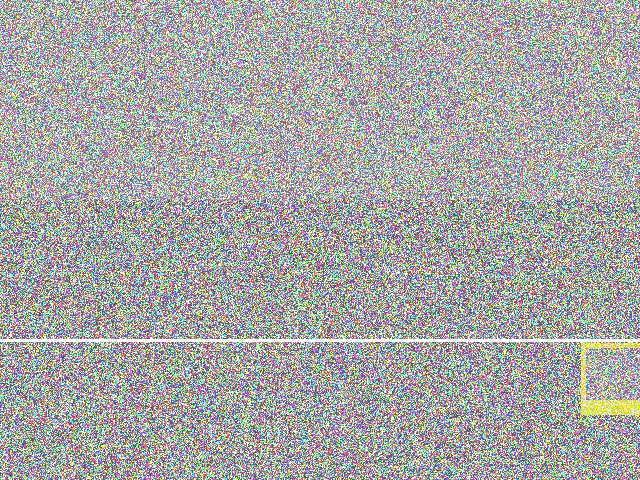motorcycle: (307, 352, 442, 470)
